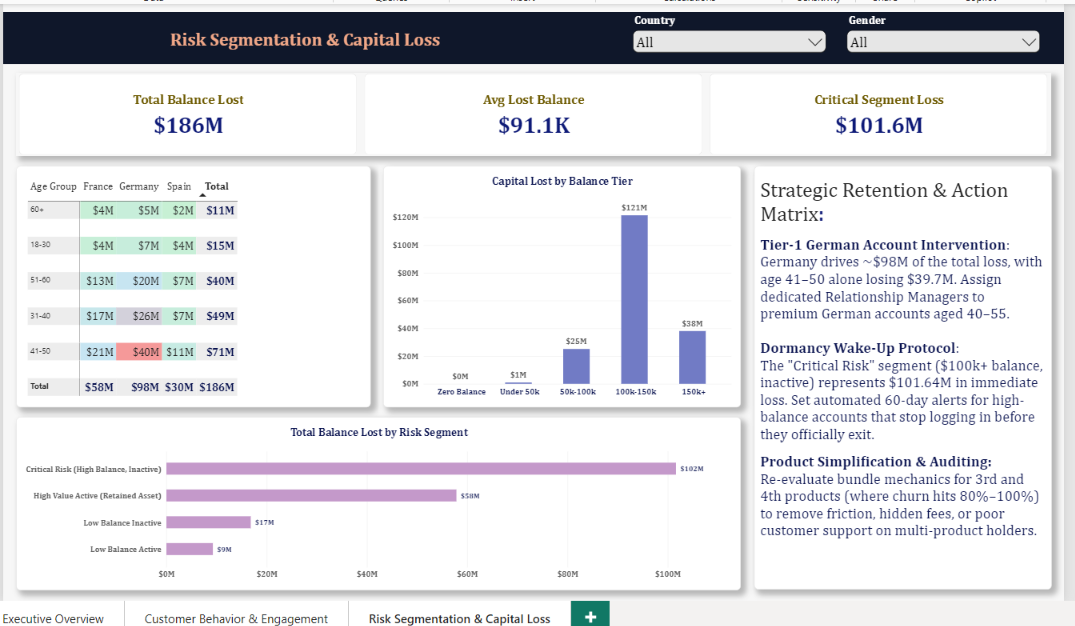

The page's visual inventory and layout, read from the dashboard file:
{"tool":"powerbi","page":{"name":"Risk Segmentation & Capital Loss","canvas":[1920,1080],"ordinal":2},"visuals":[{"type":"shape","box":[0,15,1920.4,94.2],"z":0},{"type":"slicer","fields":{"Values":["bank_churn_clean.geography"]},"box":[1134.7,16.3,359.3,92.4],"z":1000},{"type":"slicer","fields":{"Values":["bank_churn_clean.gender"]},"box":[1521.9,16.3,359.3,92.4],"z":2000},{"type":"textbox","box":[23.5,32,1046,79.6],"z":3000},{"type":"cardVisual","fields":{"Data":["measures_.Total Balance Lost","measures_.Avg Lost Balance","measures_.Critical Segment Loss"]},"box":[24.3,125.4,1873.5,149.7],"z":4000},{"type":"pivotTable","fields":{"Columns":["bank_churn_clean.geography"],"Rows":["bank_churn_clean.age_group"],"Values":["measures_.Total Balance Lost"]},"box":[24.3,293.4,641.3,437],"z":4001},{"type":"clusteredBarChart","fields":{"Category":["bank_churn_clean.Risk Segment"],"Y":["measures_.Total Balance Lost"]},"box":[24.3,746.6,1311,313.6],"z":4002},{"type":"columnChart","title":"Capital Lost by Balance Tier","fields":{"Category":["bank_churn_clean.balance_category"],"Y":["measures_.Total Balance Lost"]},"box":[687.9,293.4,647.4,437],"z":4003},{"type":"textbox","box":[1359.6,293.4,538.2,766.8],"z":4004}]}

Visuals, with their boxes on the page's 1920x1080 design canvas (x1, y1, x2, y2). These are canvas units, not pixel positions in the 1075x626 screenshot, which may show the page scaled, cropped or inside an application window:
shape: {"x1": 0, "y1": 15, "x2": 1920, "y2": 109}
slicer - bank_churn_clean.geography: {"x1": 1135, "y1": 16, "x2": 1494, "y2": 109}
slicer - bank_churn_clean.gender: {"x1": 1522, "y1": 16, "x2": 1881, "y2": 109}
textbox: {"x1": 24, "y1": 32, "x2": 1070, "y2": 112}
cardVisual - measures_.Total Balance Lost x measures_.Avg Lost Balance: {"x1": 24, "y1": 125, "x2": 1898, "y2": 275}
pivotTable - bank_churn_clean.geography x bank_churn_clean.age_group: {"x1": 24, "y1": 293, "x2": 666, "y2": 730}
clusteredBarChart - bank_churn_clean.Risk Segment x measures_.Total Balance Lost: {"x1": 24, "y1": 747, "x2": 1335, "y2": 1060}
"Capital Lost by Balance Tier" columnChart: {"x1": 688, "y1": 293, "x2": 1335, "y2": 730}
textbox: {"x1": 1360, "y1": 293, "x2": 1898, "y2": 1060}
